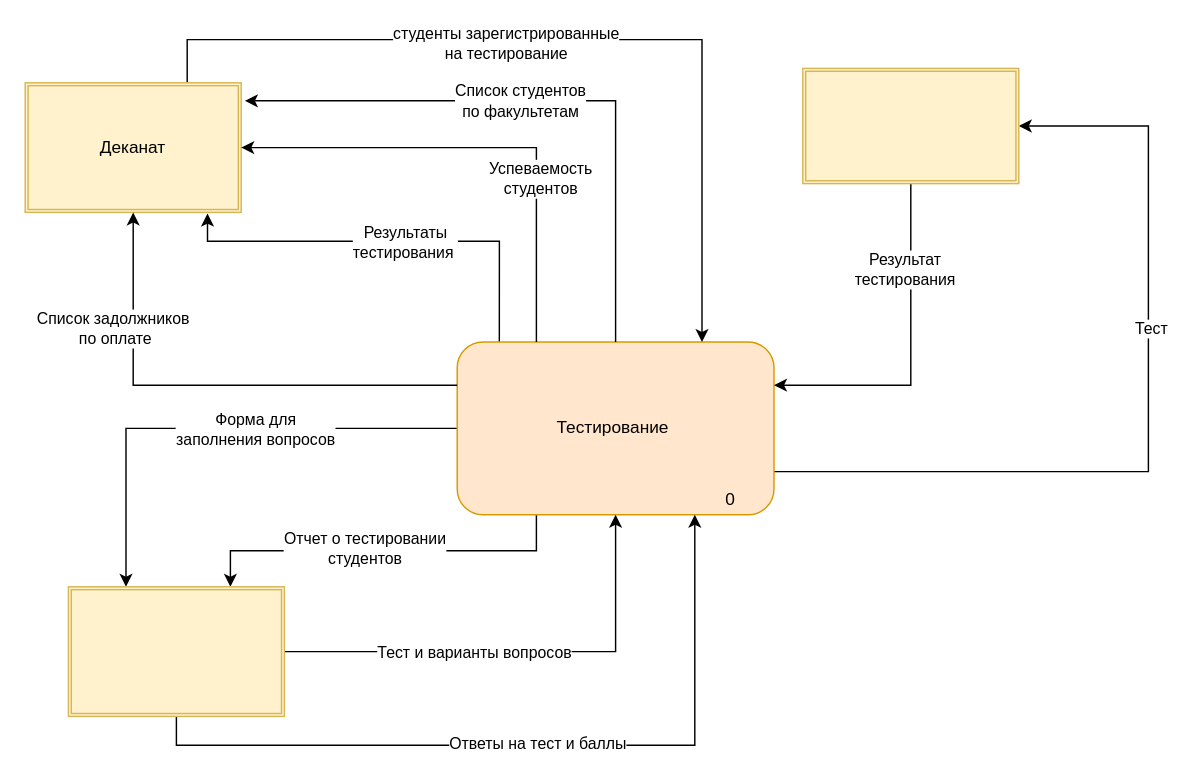
Some shapes in this 1192 by 782 pixel diagram are drawn without their labels. The centre of each missing label's shape, as x and y in pixels:
"Преподователь" belongs at pixel 175 650.
"Студент" belongs at pixel 910 125.
